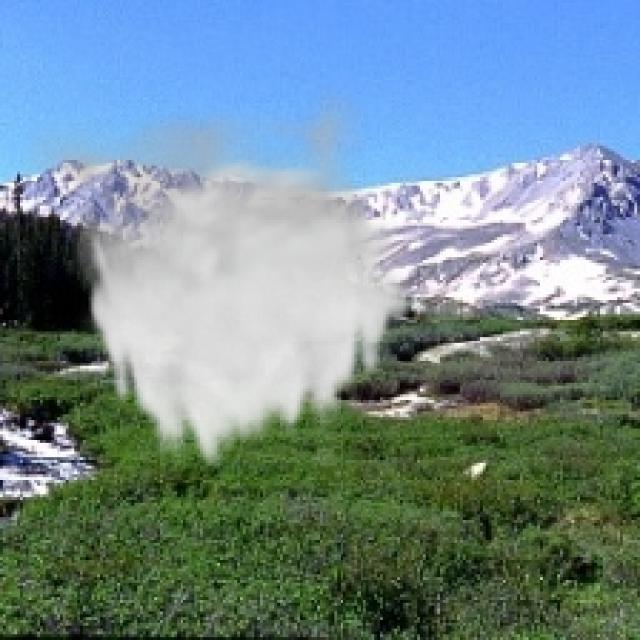smoke: (17, 83, 414, 477)
